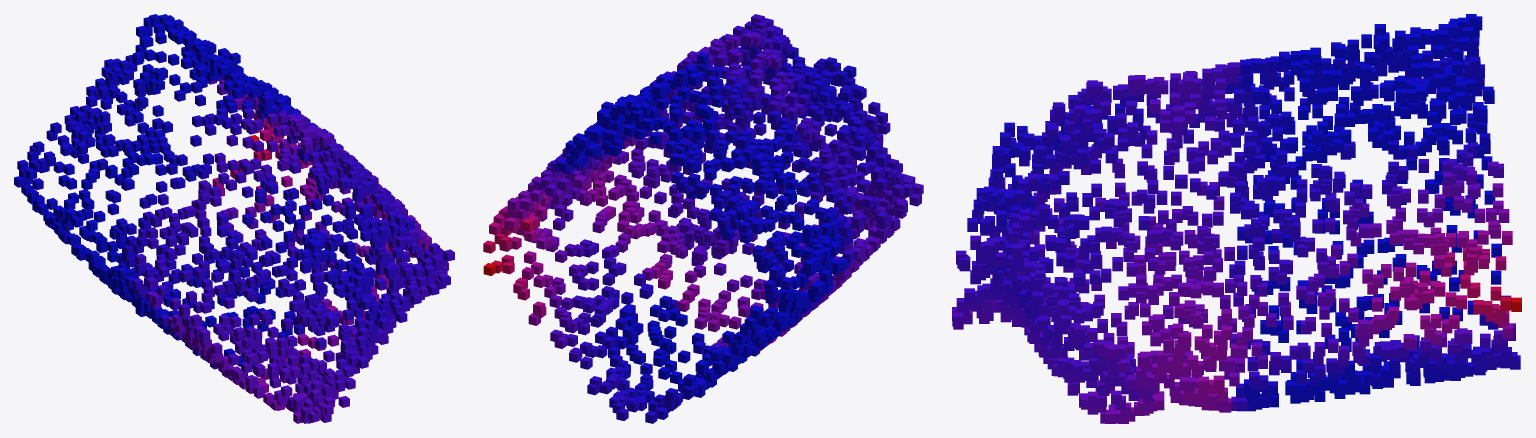
The model's file is heatmap.glb.
3 renders of one model, left to right at view 1: azimuth 30°, elevation 25°; view 2: azimuth 150°, elevation 25°; view 3: azimuth 270°, elevation 25°, orthographic. The views are drawn at different scales.
Visible parts, largest first — view 1: world; view 2: world; view 3: world.
Part boxes in pixels (box(x1,y1,x2,y2)): world: box(14, 14, 454, 423); world: box(483, 14, 923, 423); world: box(952, 14, 1521, 423).
Bounding box in the file's own units: 0.1247 × 0.1236 × 0.1608.
